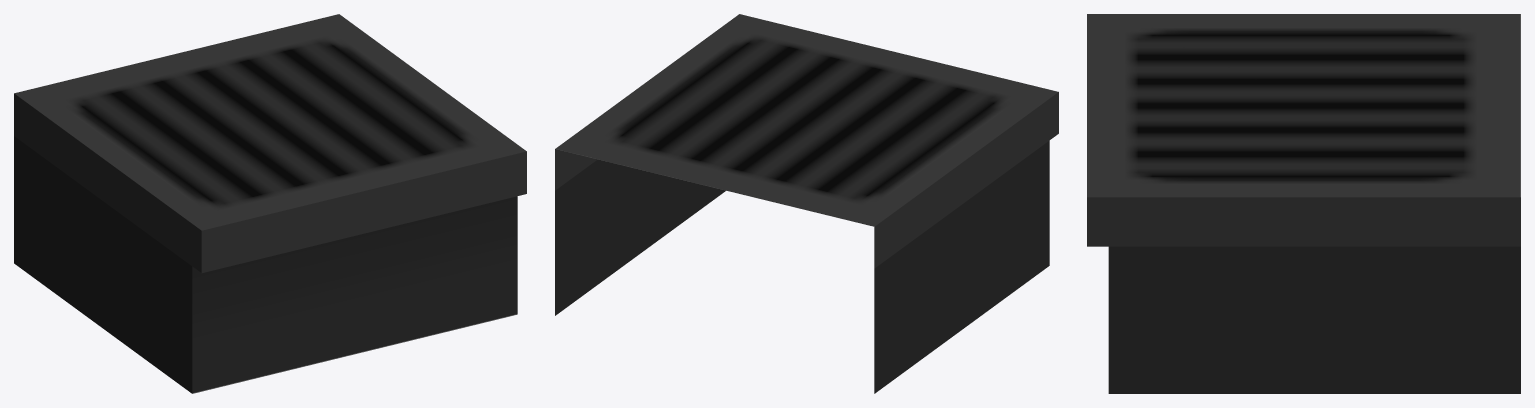
Rendered from grill.dae.
The picture shows the model from 3 angles, left to right: view 1: azimuth 30°, elevation 25°; view 2: azimuth 150°, elevation 25°; view 3: azimuth 270°, elevation 25°; orthographic projection. The views are drawn at different scales.
Parts seen in each view (by area): view 1: Regroup01, Regroup04, Regroup07, Regroup02, Regroup06; view 2: Regroup01, Regroup07, Regroup06; view 3: Regroup01, Regroup07, Regroup06.
Part boxes in pixels (<box>): Regroup01: <box>14,14,526,230</box>; Regroup04: <box>192,196,517,393</box>; Regroup07: <box>14,136,192,393</box>; Regroup02: <box>201,151,526,272</box>; Regroup06: <box>14,93,201,272</box>; Regroup01: <box>555,14,1058,226</box>; Regroup07: <box>555,140,1049,393</box>; Regroup06: <box>555,92,1058,268</box>; Regroup01: <box>1087,14,1520,197</box>; Regroup07: <box>1108,246,1520,393</box>; Regroup06: <box>1087,197,1520,246</box>.
Bounding box in the file's own units: 4 × 2 × 4.
